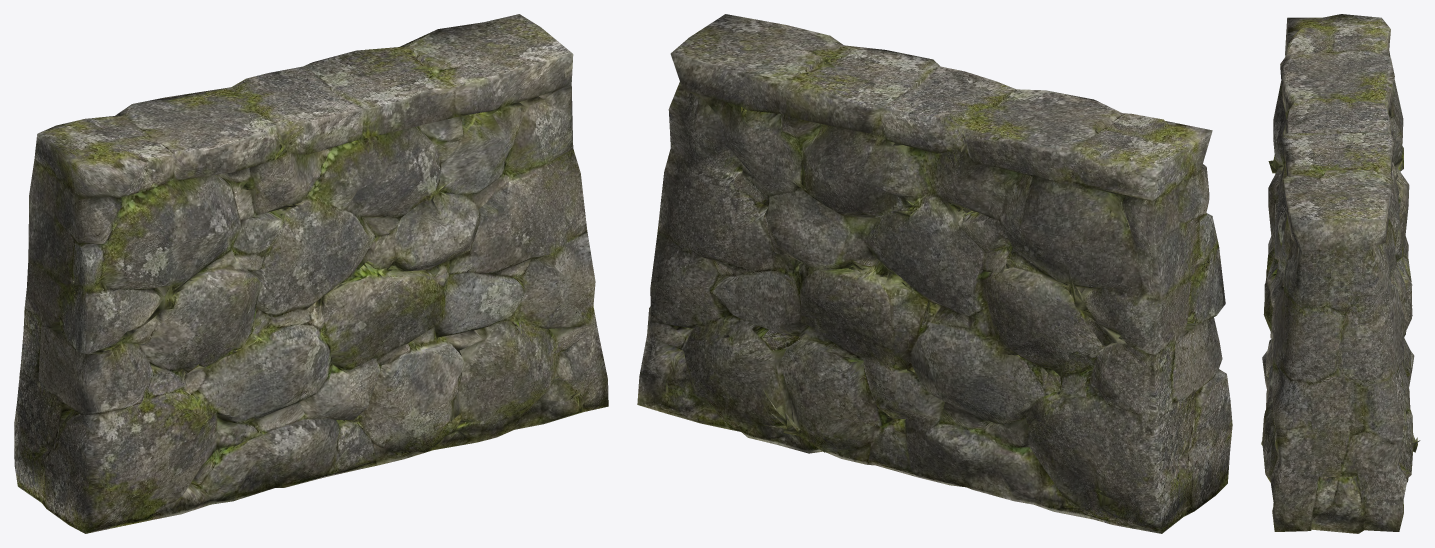
File: ishigaki.glb
3 views of the same model, side by side, from view 1: azimuth 30°, elevation 25°; view 2: azimuth 150°, elevation 25°; view 3: azimuth 270°, elevation 25° (orthographic). The views are drawn at different scales.
Visible parts, largest first — view 1: stone wall 3d model; view 2: stone wall 3d model; view 3: stone wall 3d model.
Boxes of the visible parts, bbox=[...] form: stone wall 3d model: bbox=[14, 14, 608, 533]; stone wall 3d model: bbox=[637, 14, 1232, 533]; stone wall 3d model: bbox=[1261, 14, 1420, 533].
Bounding box in the file's own units: 2.73 × 1.8 × 0.839.
1 material, 1 textured.
